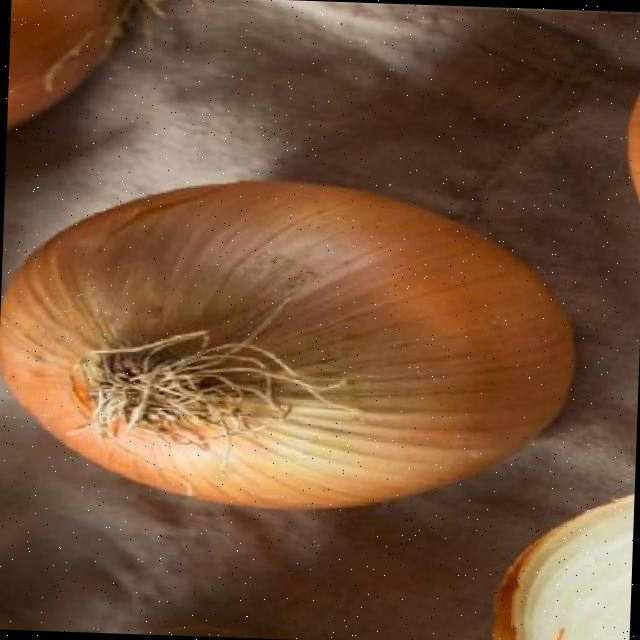Onion: (0, 179, 576, 508)
